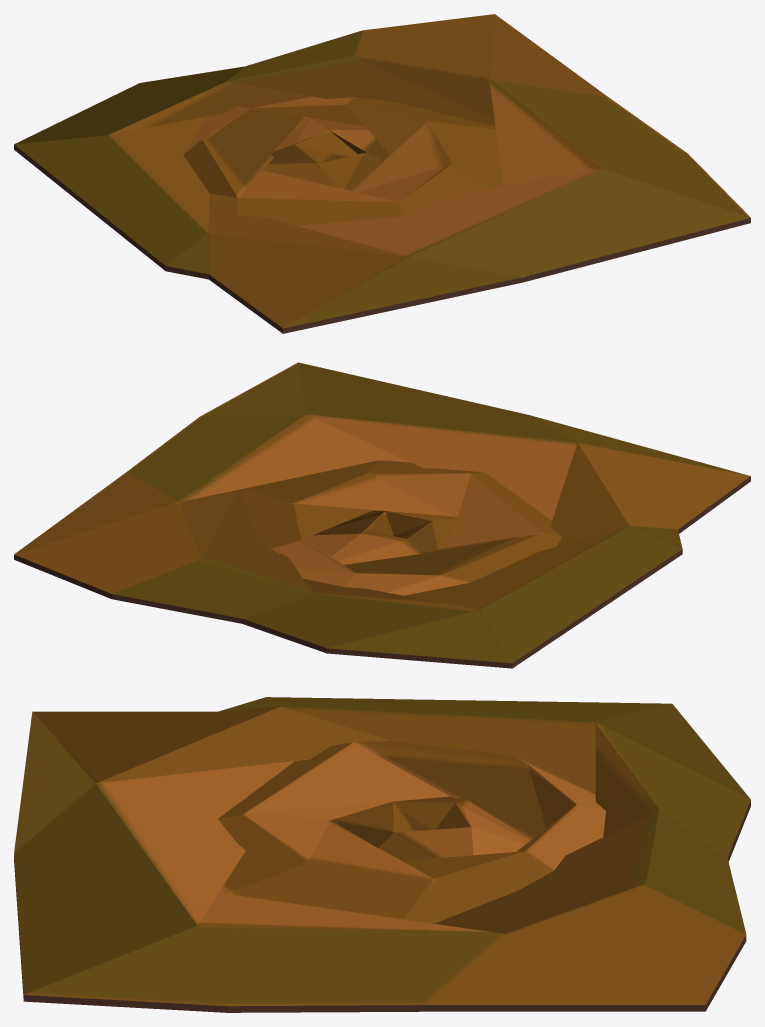
The model's file is MudAnimated02.fbx.
3 views of the same model, one above another, from view 1: azimuth 30°, elevation 25°; view 2: azimuth 150°, elevation 25°; view 3: azimuth 270°, elevation 25° (orthographic). The views are drawn at different scales.
Visible parts, largest first — view 1: Circle.005; view 2: Circle.005; view 3: Circle.005.
Boxes of the visible parts, x1,y1,x2,y2 form: Circle.005: (14, 14, 750, 333); Circle.005: (14, 362, 750, 668); Circle.005: (14, 697, 750, 1012).
Size of the model in its own units: 99.3 by 4.22 by 100.
